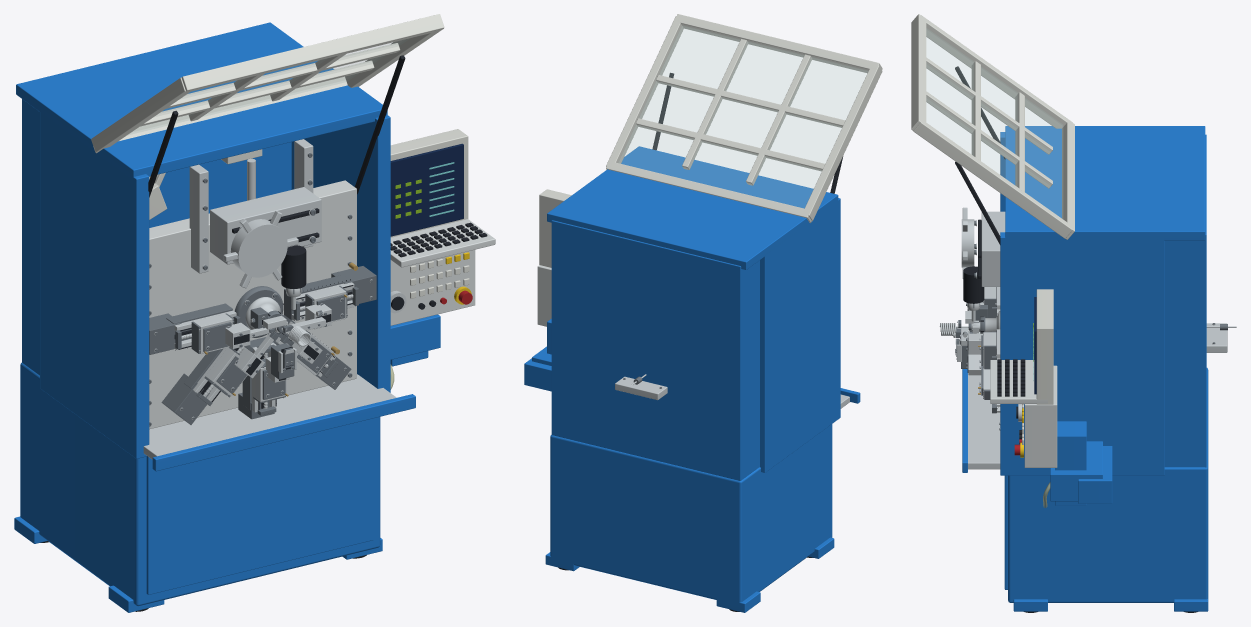
File: ham-10t.glb
3 renders of one model, left to right at view 1: azimuth 30°, elevation 25°; view 2: azimuth 150°, elevation 25°; view 3: azimuth 270°, elevation 25°, orthographic. The views are drawn at different scales.
Parts seen in each view (by area): view 1: Structure_brightblue_-1.007, Structure_panel_-1.007, RaisedHood.005_white_-1, OutputTrayAssembly.006, ToolChangerXYZ.005, Structure_screen_-1.007, Structure_steel_2.006, Structure_white_-1.009, Structure_black_-1.009, RaisedHood.005_glass_-1, CentralGuide.009, Carriage_1.003 (+14 smaller); view 2: Structure_brightblue_-1.007, RaisedHood.005_glass_-1, RaisedHood.005_white_-1, Structure_white_-1.009, Structure_panel_-1.007, RearFeedFrame.009, Structure_black_-1.009; view 3: Structure_brightblue_-1.007, RaisedHood.005_white_-1, RaisedHood.005_glass_-1, Structure_panel_-1.007, ToolChangerXYZ.005, OutputTrayAssembly.006, Structure_white_-1.009, Structure_black_-1.009, RearFeedFrame.009, Carriage_0.003, ServoSlide_0.011, CentralGuide.009.
Part boxes in pixels (x1,y1,x2,y2): Structure_brightblue_-1.007: (14,22,440,612); Structure_panel_-1.007: (149,180,495,429); RaisedHood.005_white_-1: (91,14,444,153); OutputTrayAssembly.006: (143,374,415,471); ToolChangerXYZ.005: (210,187,321,309); Structure_screen_-1.007: (390,143,463,236); Structure_steel_2.006: (189,139,313,273); Structure_white_-1.009: (149,129,469,298); Structure_black_-1.009: (148,55,487,310); RaisedHood.005_glass_-1: (128,38,409,134); CentralGuide.009: (234,286,287,337); Carriage_1.003: (191,313,234,354); Structure_brightblue_-1.007: (524,146,840,612); RaisedHood.005_glass_-1: (618,25,867,207); RaisedHood.005_white_-1: (606,14,882,222); Structure_white_-1.009: (539,189,571,267); Structure_panel_-1.007: (537,265,551,326); RearFeedFrame.009: (615,374,667,400); Structure_black_-1.009: (652,72,843,193); Structure_brightblue_-1.007: (1000,126,1208,611); RaisedHood.005_white_-1: (911,14,1074,239); RaisedHood.005_glass_-1: (926,28,1063,218); Structure_panel_-1.007: (990,360,1057,467); ToolChangerXYZ.005: (961,207,1005,321); OutputTrayAssembly.006: (962,369,1000,472); Structure_white_-1.009: (1022,289,1053,444); Structure_black_-1.009: (955,66,1025,439); RearFeedFrame.009: (1206,323,1236,352); Carriage_0.003: (978,332,996,369); ServoSlide_0.011: (952,327,982,354); CentralGuide.009: (968,311,1000,333).
Size of the model in its own units: 2.45 by 3.83 by 2.28.
